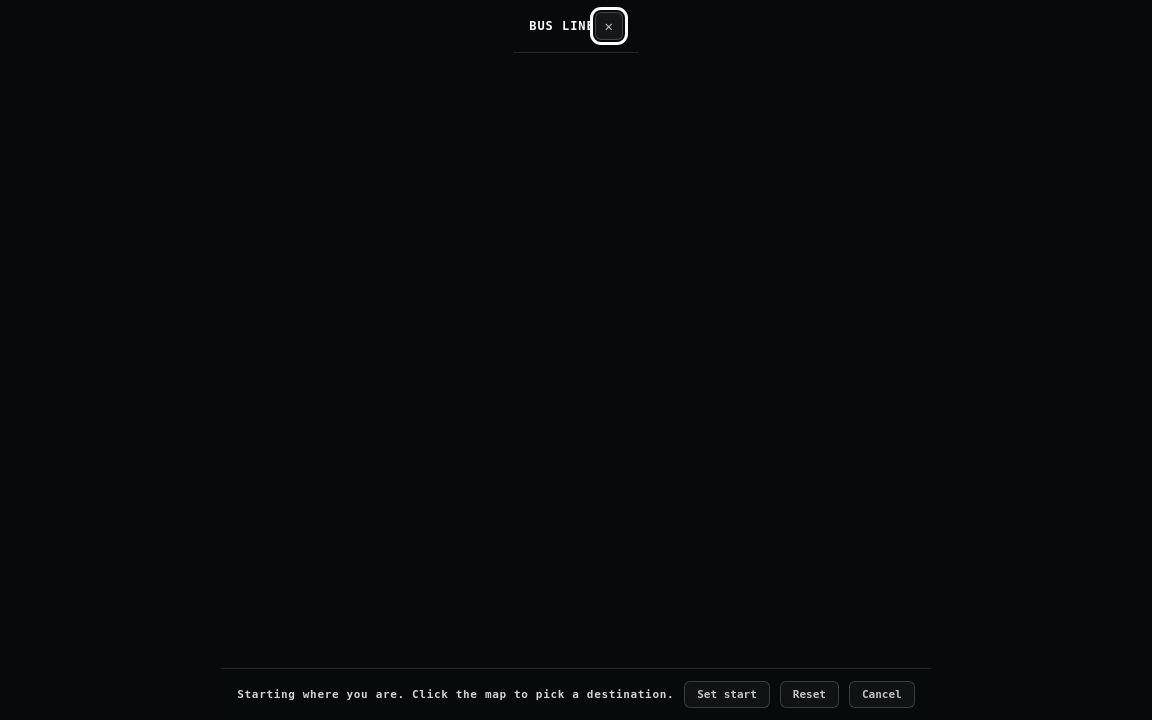
Test case: BusOverMap › returns to the seeded start rather than a blank map when Reset is pressed
Click the element with test id "bus-map" at (576, 360), box [0, 53, 1151, 668]
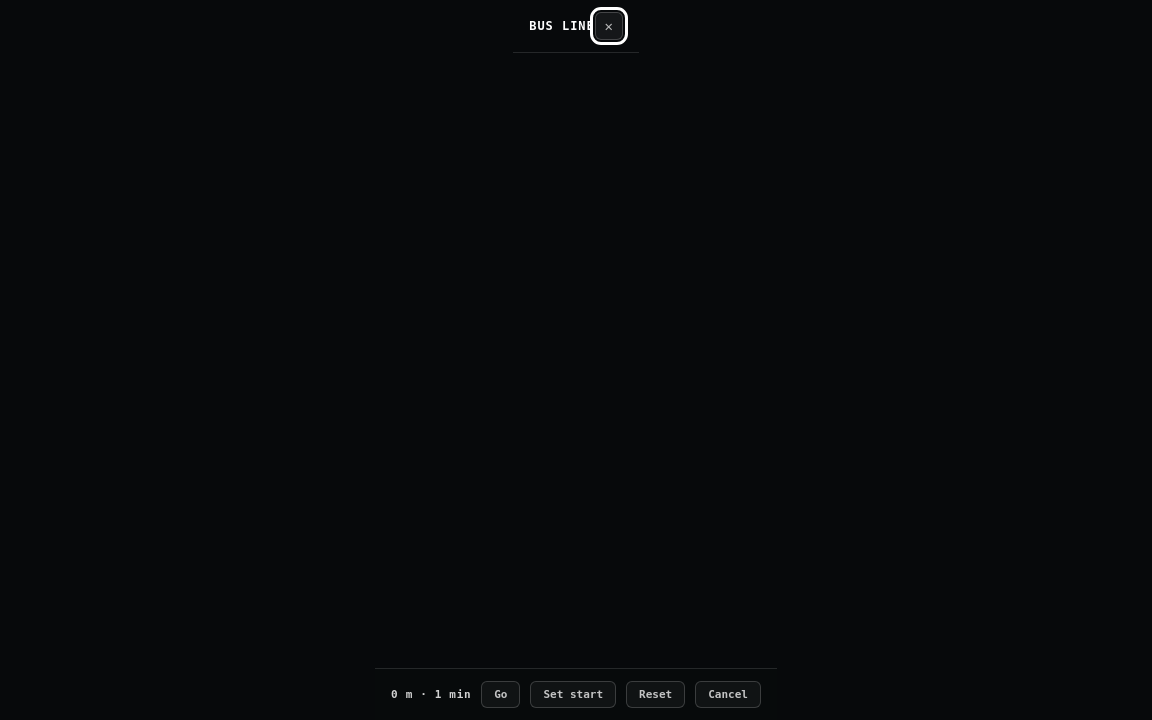
Result: the button "Go" is shown at [481, 681, 520, 708]
Click the button "Reset" at (656, 694), box [626, 681, 685, 708]
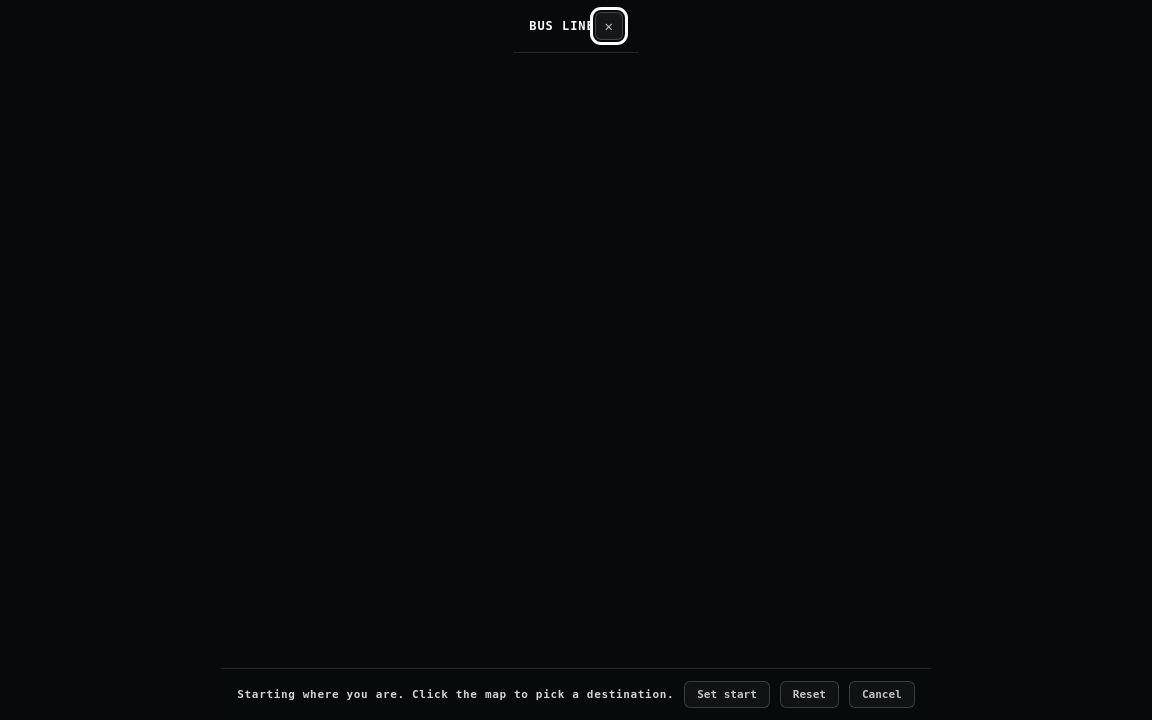
Result: the text "Starting where you are. Click the map to pick a destination." is shown at [237, 687, 674, 702]
Result: the button "Go" is gone
